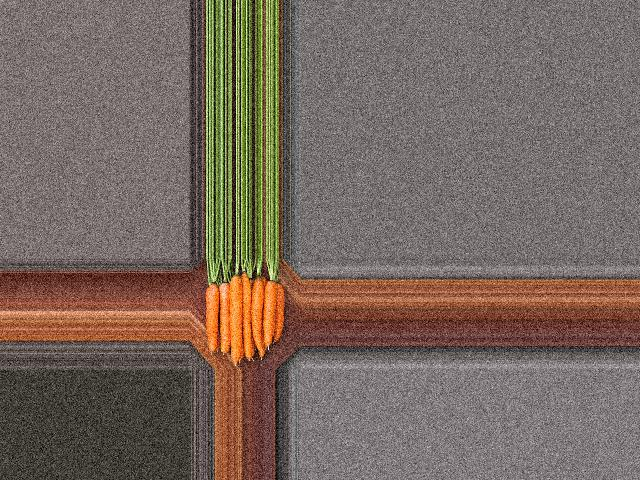carrot: (271, 281, 289, 350)
